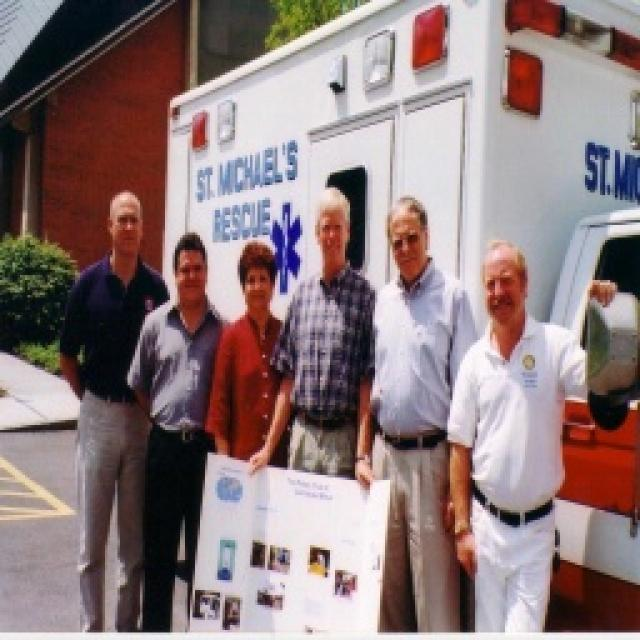emergency-vehicle: (154, 6, 640, 640)
